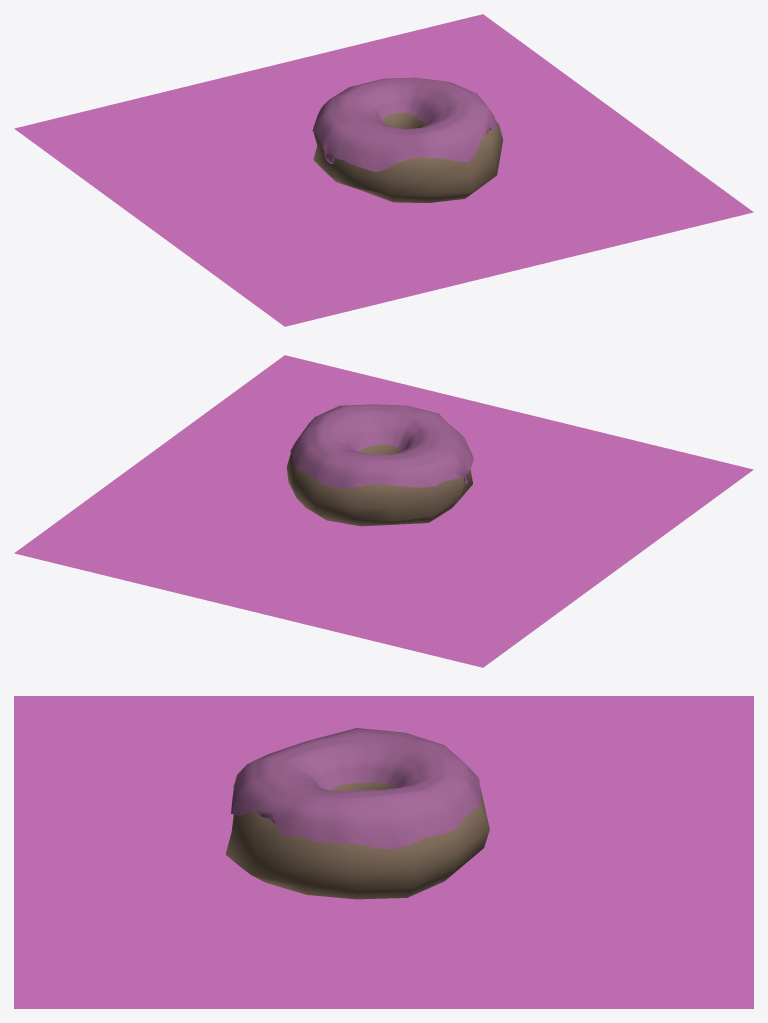
Rendered from Donut.glb.
3 renders of one model, top to bottom at view 1: azimuth 30°, elevation 25°; view 2: azimuth 150°, elevation 25°; view 3: azimuth 270°, elevation 25°, orthographic. The views are drawn at different scales.
Parts seen in each view (by area): view 1: Plane, Icing, Donut; view 2: Plane, Icing, Donut; view 3: Plane, Icing, Donut.
Part boxes in pixels (box(x1,y1,x2,y2)): Plane: box(14, 14, 753, 326); Icing: box(312, 77, 496, 172); Donut: box(313, 112, 502, 202); Plane: box(14, 355, 753, 667); Icing: box(290, 404, 473, 488); Donut: box(286, 444, 472, 526); Plane: box(14, 696, 753, 1008); Icing: box(231, 728, 480, 849); Donut: box(225, 782, 489, 899).
Size of what is drawn, in the model's own units: 4.08 by 0.6111 by 4.08.
